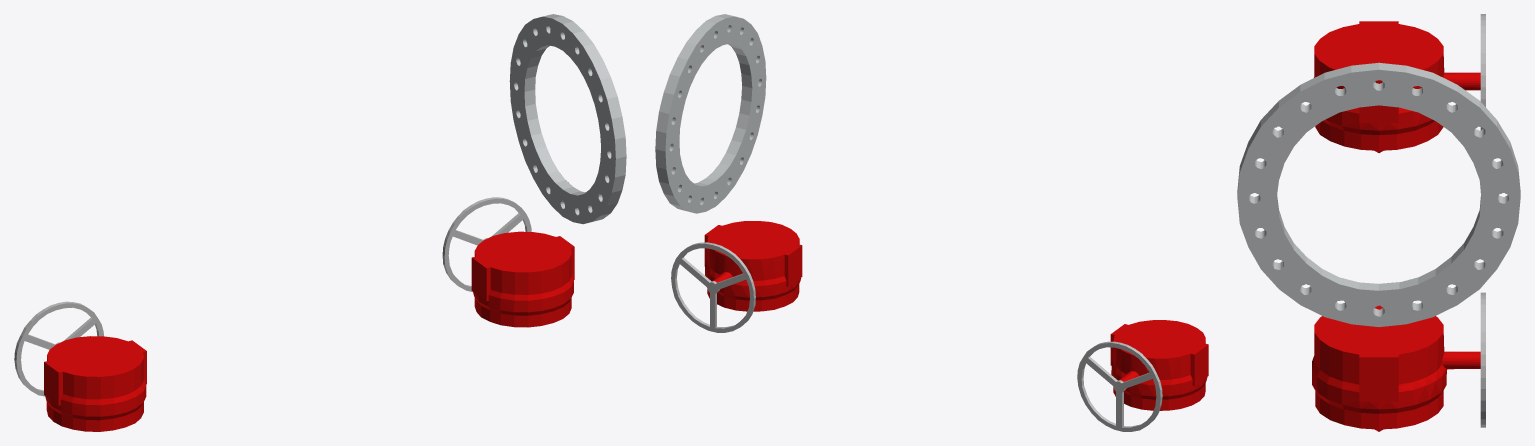
3 renders of one model, left to right at view 1: azimuth 30°, elevation 25°; view 2: azimuth 150°, elevation 25°; view 3: azimuth 270°, elevation 25°, orthographic. The views are drawn at different scales.
Size of the model in its own units: 1.82 by 0.9522 by 0.6395.
